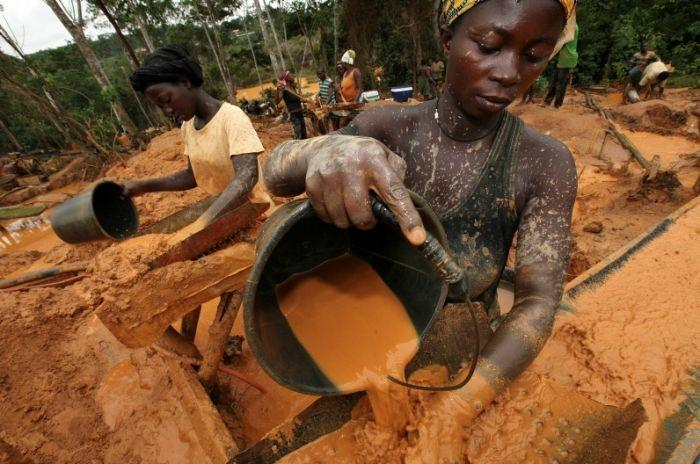MiningTool: (241, 184, 482, 399), (47, 178, 141, 243), (625, 88, 642, 104)
Person: (265, 1, 586, 464), (118, 43, 278, 352), (543, 23, 581, 111), (621, 41, 659, 104), (277, 73, 309, 141), (339, 48, 363, 111), (313, 66, 334, 131), (639, 60, 668, 100), (417, 57, 437, 101), (428, 54, 446, 93), (520, 86, 536, 105)
ProcessingEquiment: (206, 191, 700, 464), (77, 193, 296, 367)
